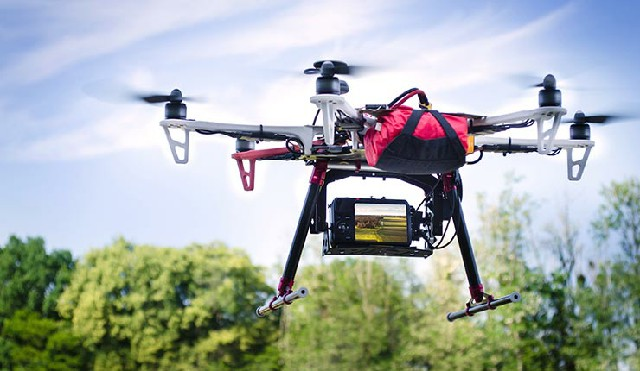maybay_khongnguoilai: (86, 37, 614, 327)
